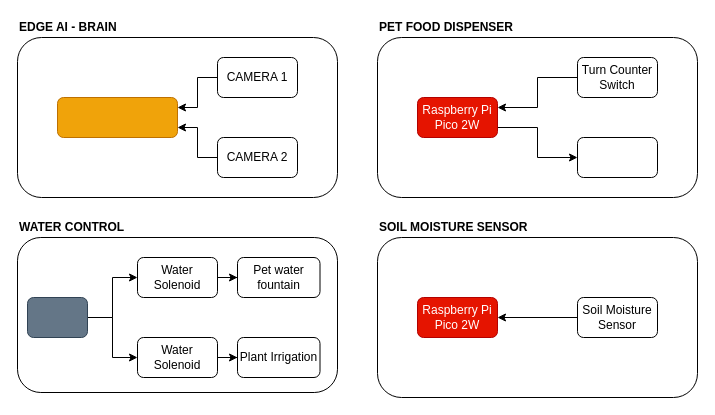
The diagram is 715 pixels wide and 415 high, and some of its shapes have lost their labels. The shapes that lost their labels are listed below. From the top down, each one's box as (x1, y1, x2, y2) in pixels, then its label:
(56, 96, 178, 138): AXELERA AI METIS M2
(576, 136, 658, 178): Motor
(26, 296, 88, 338): Sonoff Relay
